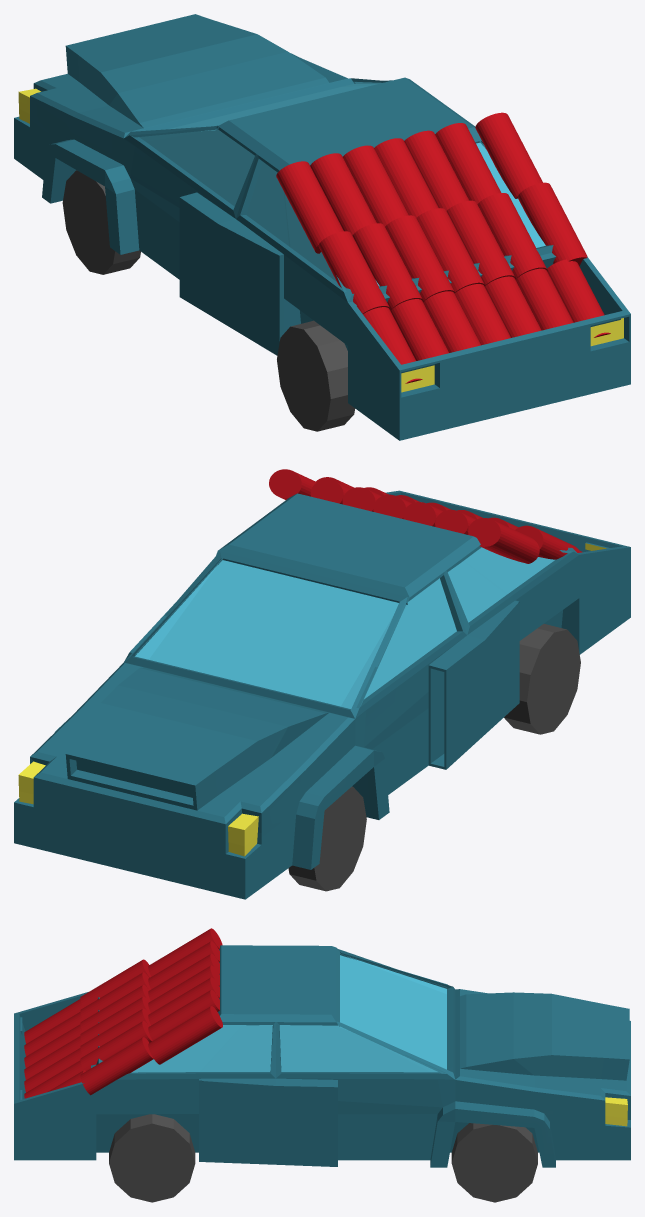
File: ExplosiveCar.fbx
The picture shows the model from 3 angles, top to bottom: view 1: azimuth 30°, elevation 25°; view 2: azimuth 150°, elevation 25°; view 3: azimuth 270°, elevation 25°; orthographic projection. The views are drawn at different scales.
Parts seen in each view (by area): view 1: Police+.001; view 2: Police+.001; view 3: Police+.001.
Boxes of the visible parts, x1=… form: Police+.001: x1=14, y1=14, x2=630, y2=440; Police+.001: x1=14, y1=469, x2=630, y2=899; Police+.001: x1=14, y1=928, x2=630, y2=1202.
Size of the model in its own units: 140 by 344 by 114.
Materials: 21 (21 with a texture image).
